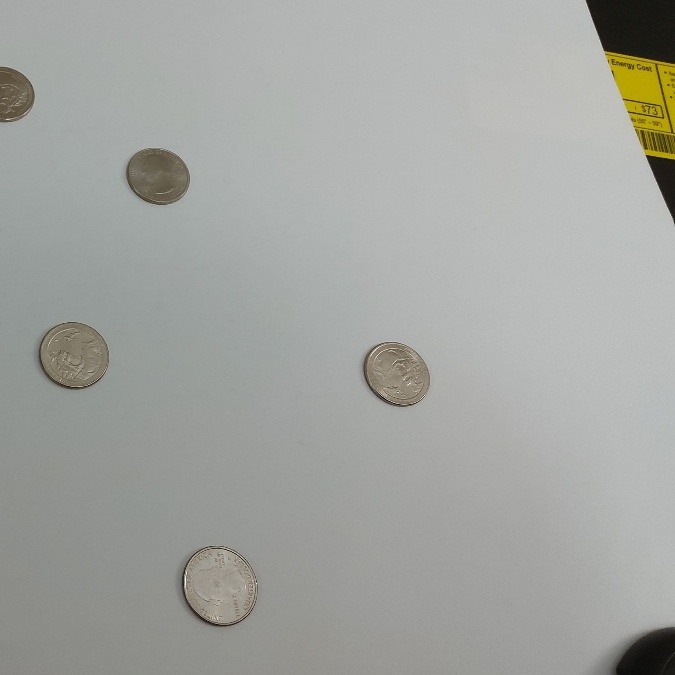coin_quarter: (178, 542, 258, 632), (35, 311, 117, 396), (359, 332, 436, 411), (120, 142, 193, 209)
